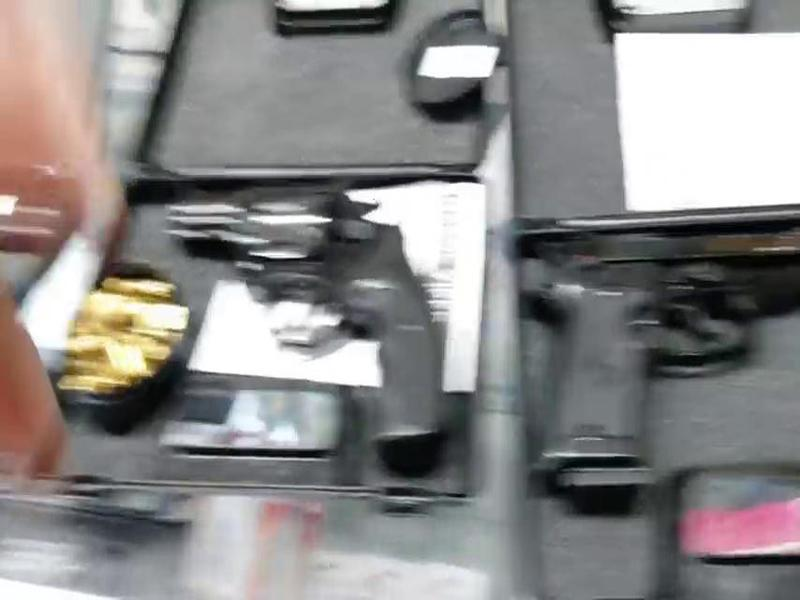Revolver: (156, 168, 472, 457)
